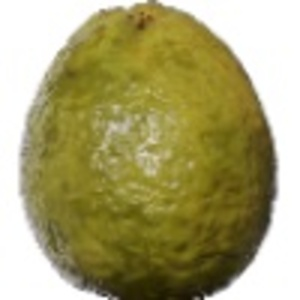goiaba: (12, 2, 281, 297)
